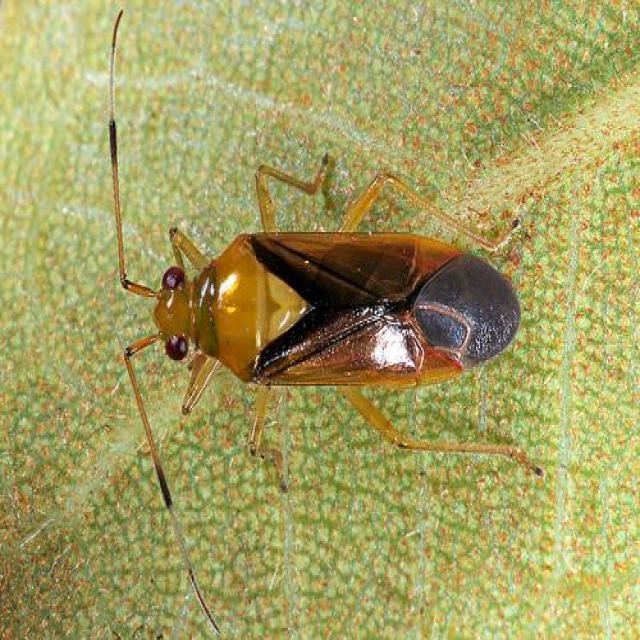Miridae-Adult-: (95, 9, 560, 518)
